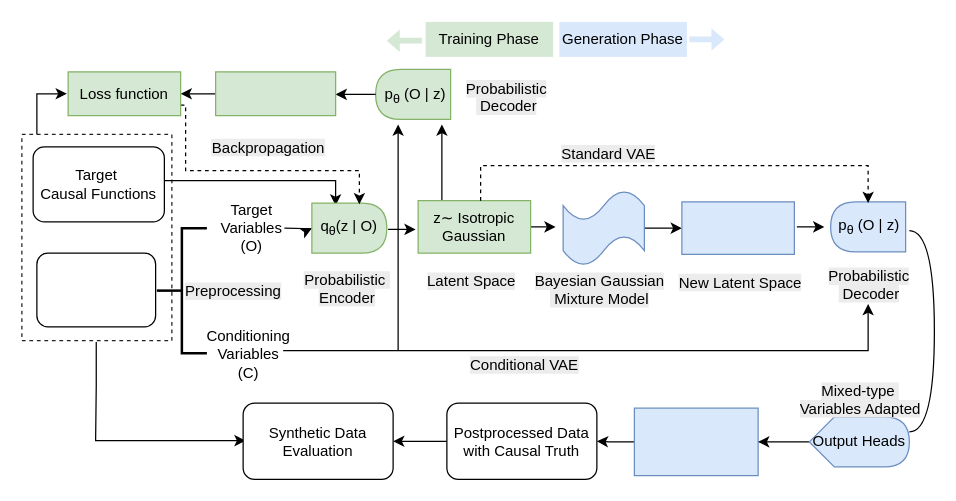
Some shapes in this 956 by 501 pixel diagram are drawn without their labels. Here are the shapes that lost their labels. From the top down, the centre of each, then its label:
At pixel 275 93: "Reconstructed Data".
At pixel 603 227: "BGMM".
At pixel 737 227: "z∼ Mixture Gaussian".
At pixel 96 289: "Observed Data".
At pixel 695 441: "Generated Data".
